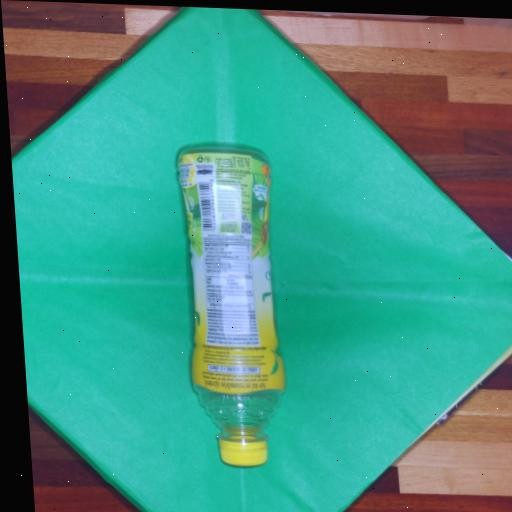bottle: (156, 128, 304, 491)
